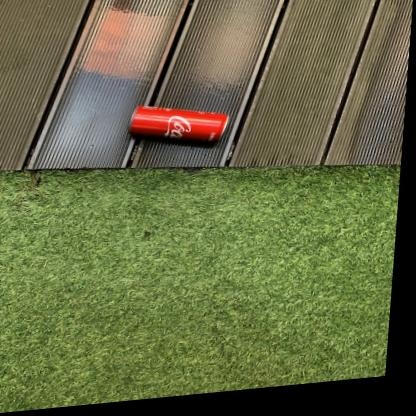trash: (129, 106, 227, 143)
